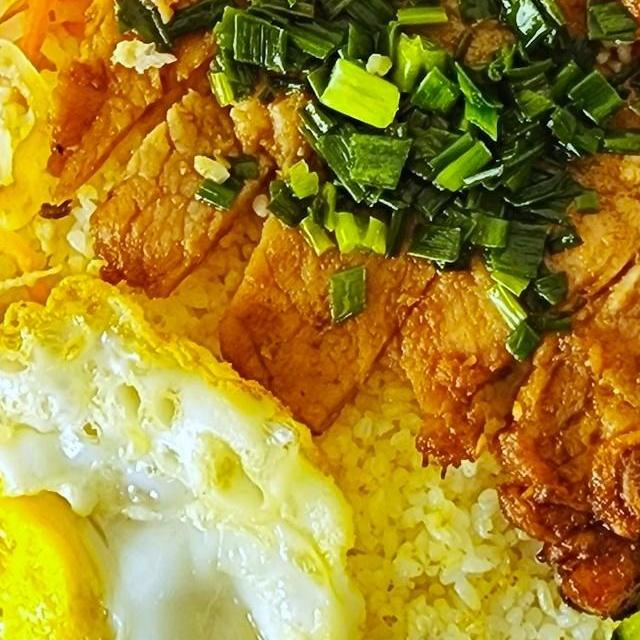com: (287, 348, 622, 640)
com suon trung: (0, 0, 640, 640)
dua chua: (0, 0, 225, 294)
suon: (0, 0, 640, 630)
trung: (0, 265, 374, 640)
